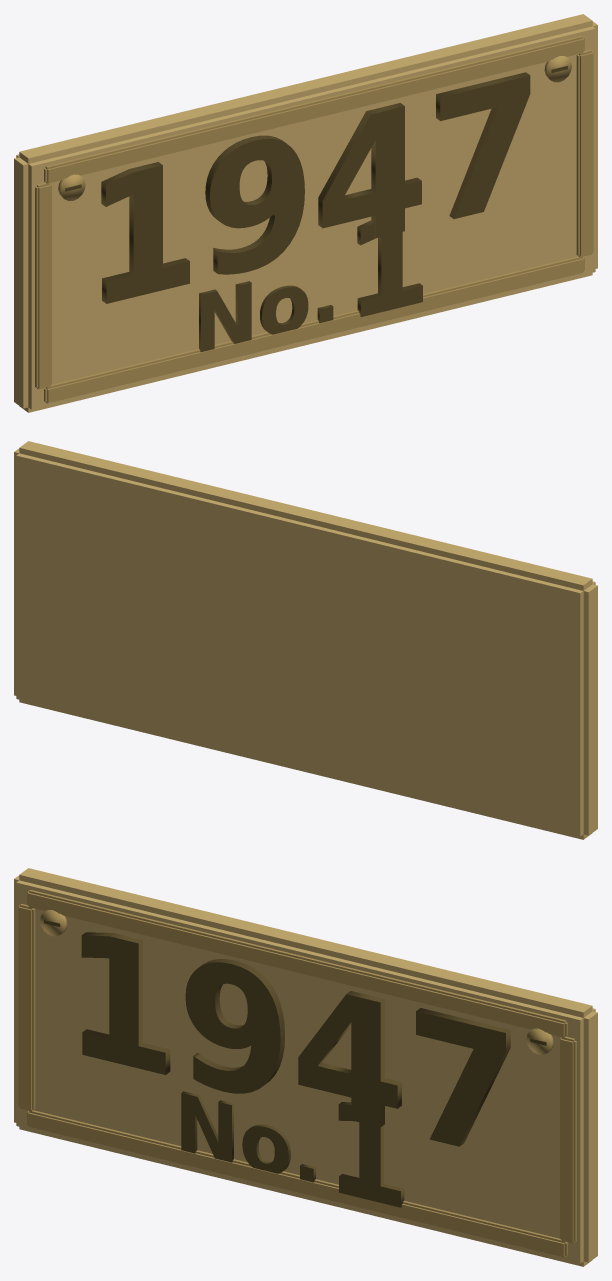
File: plaque_1947.glb
The picture shows the model from 3 angles, top to bottom: view 1: azimuth 30°, elevation 25°; view 2: azimuth 150°, elevation 25°; view 3: azimuth 330°, elevation 25°; orthographic projection.
Parts seen in each view (by area): view 1: Plate, Text1947, RimT, RimB, TextNo, RimR, RimL, Text1, ScrewL, ScrewR; view 2: Plate; view 3: Plate, Text1947, RimT, RimB, TextNo, RimL, RimR, Text1, ScrewR, ScrewL.
Boxes of the visible parts, x1,y1,x2,y2 form: Plate: (14,14,597,412); Text1947: (101,72,530,303); RimT: (44,36,584,183); RimB: (44,256,584,403); TextNo: (199,281,333,352); RimR: (576,50,593,257); RimL: (35,182,51,389); Text1: (357,220,422,316); ScrewL: (58,174,85,200); ScrewR: (544,56,571,82); Plate: (14,441,597,839); Plate: (14,868,597,1266); Text1947: (81,932,510,1146); RimT: (27,890,567,1037); RimB: (27,1110,567,1257); TextNo: (181,1091,315,1182); RimL: (18,904,35,1111); RimR: (560,1036,576,1243); Text1: (338,1102,404,1207); ScrewR: (526,1028,553,1054); ScrewL: (40,910,67,936).
Bounding box in the file's own units: 1.3 × 0.55 × 0.0777.
